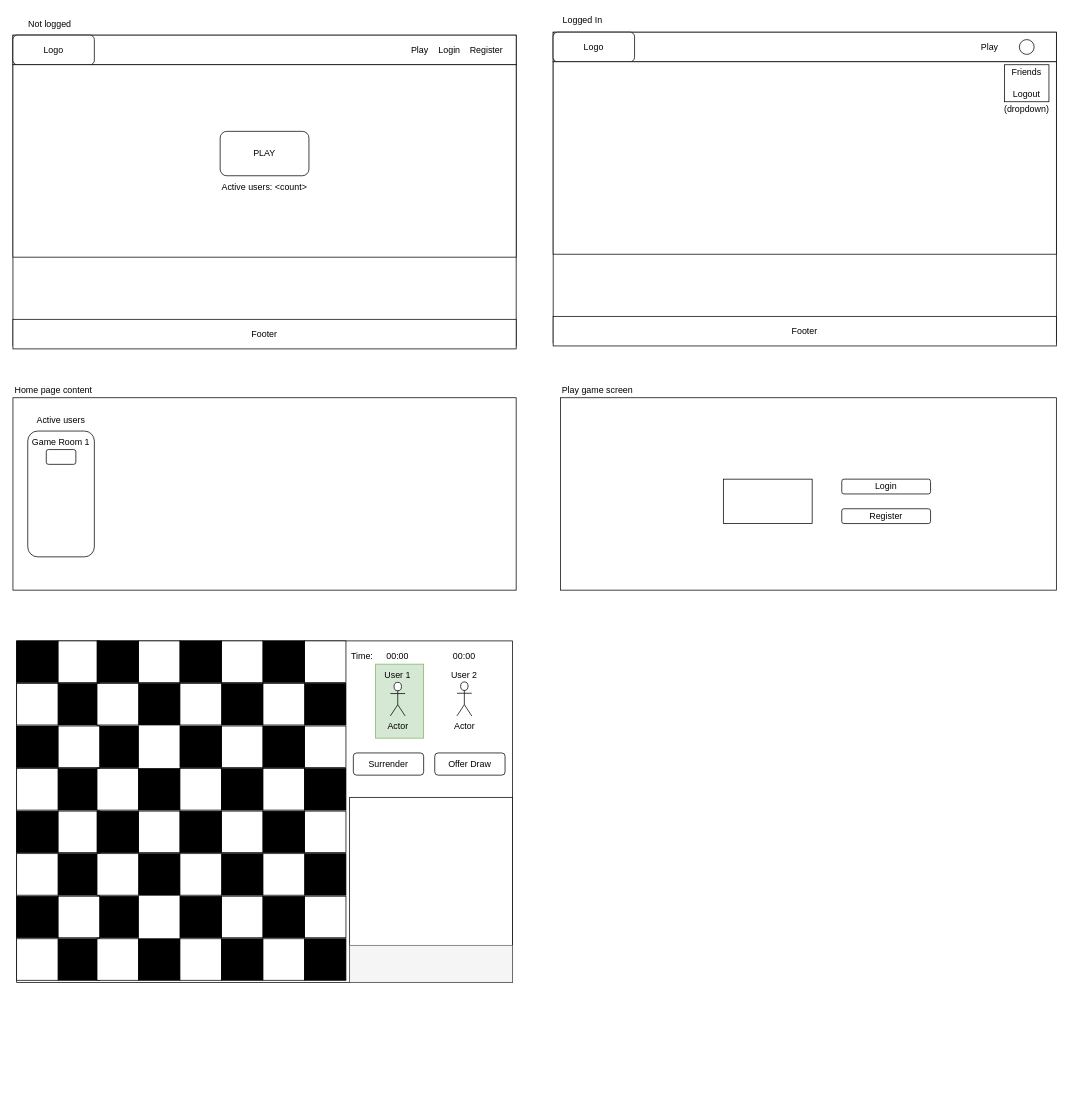
The diagram is 1069 pixels wide and 1106 high, and some of its shapes have lost their labels. Here are the shapes that lost their labels. From the top down, the box of each, then its label:
(552, 61, 1056, 254): <CONTENT>
(46, 449, 76, 464): Join
(723, 478, 812, 524): Enter username...
(349, 945, 512, 982): Enter message...
